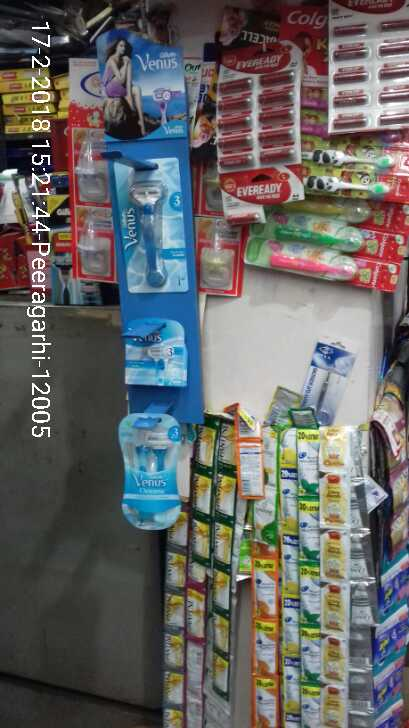venus: (109, 152, 189, 296), (111, 410, 186, 532), (117, 313, 188, 394)
